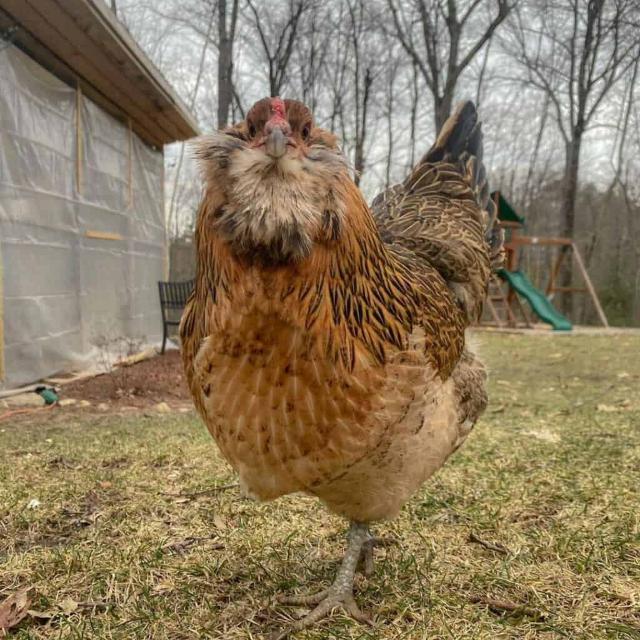Chicken: (183, 95, 507, 629)
